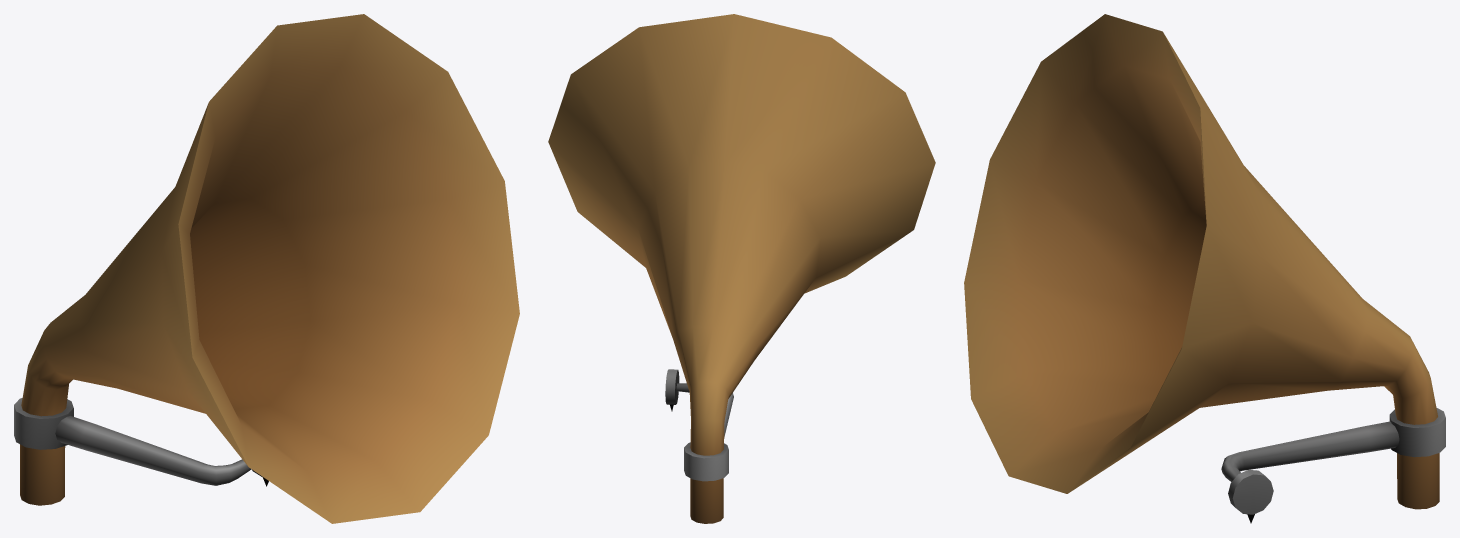
The model's file is human-music-gramophone-horn_v1.fbx.
The picture shows the model from 3 angles, left to right: view 1: azimuth 30°, elevation 25°; view 2: azimuth 150°, elevation 25°; view 3: azimuth 270°, elevation 25°; orthographic projection. The views are drawn at different scales.
Visible parts, largest first — view 1: Gramophone Horn; view 2: Gramophone Horn; view 3: Gramophone Horn.
Part boxes in pixels (<box>): Gramophone Horn: <box>14,14,519,523</box>; Gramophone Horn: <box>548,14,935,523</box>; Gramophone Horn: <box>964,14,1445,523</box>.
Size of the model in its own units: 0.3969 by 0.5 by 0.4241.
